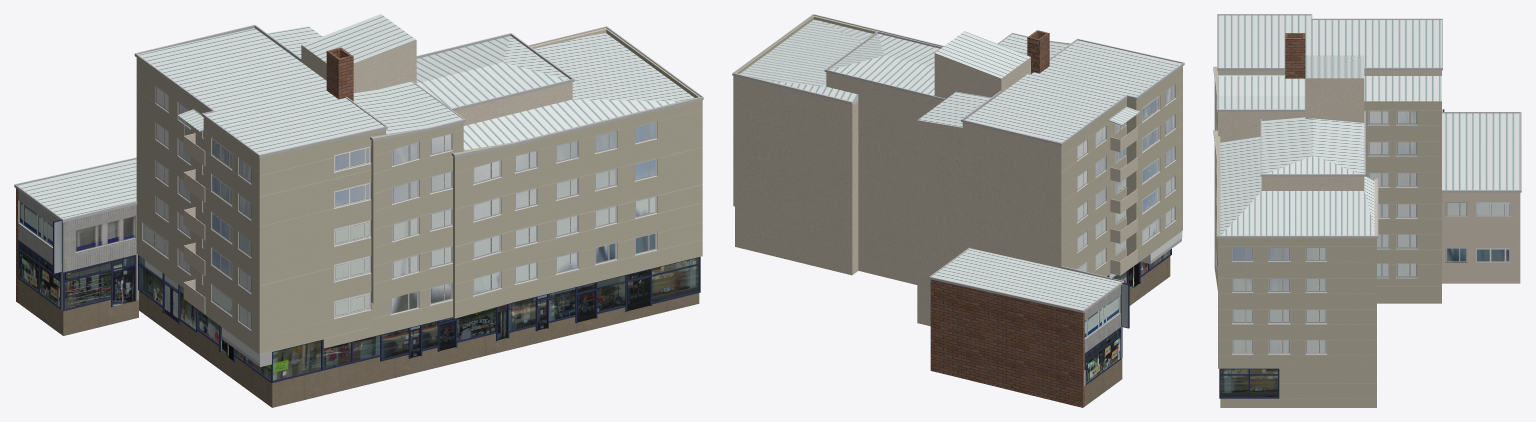
File: isokatu_10.dae
The picture shows the model from 3 angles, left to right: view 1: azimuth 30°, elevation 25°; view 2: azimuth 150°, elevation 25°; view 3: azimuth 270°, elevation 25°; orthographic projection. The views are drawn at different scales.
Parts seen in each view (by area): view 1: Object_1; view 2: Object_1; view 3: Object_1.
Part boxes in pixels (left/top/right/bottom): Object_1: left=14, top=14, right=703, bottom=407; Object_1: left=732, top=14, right=1184, bottom=407; Object_1: left=1213, top=14, right=1521, bottom=407.
Bounding box in the file's own units: 41.38 × 25.82 × 23.13.
